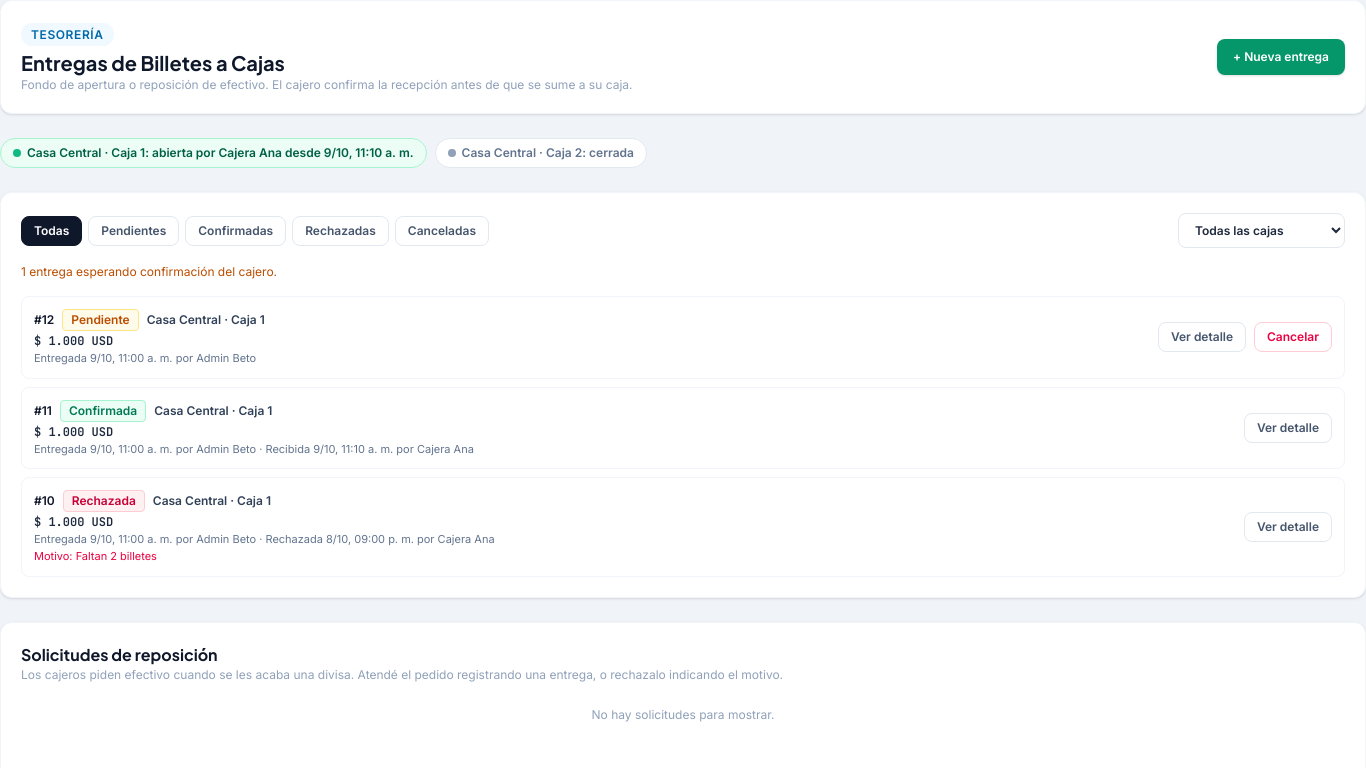
Test: CashDeliveries (PI-43) › cancela una pendiente indicando el motivo
This screenshot has width=1366, height=768.
Check: the text "#12" is shown, box [34,312,54,328]
Click the button "Cancelar": (1293, 337) [1254,322,1332,352]
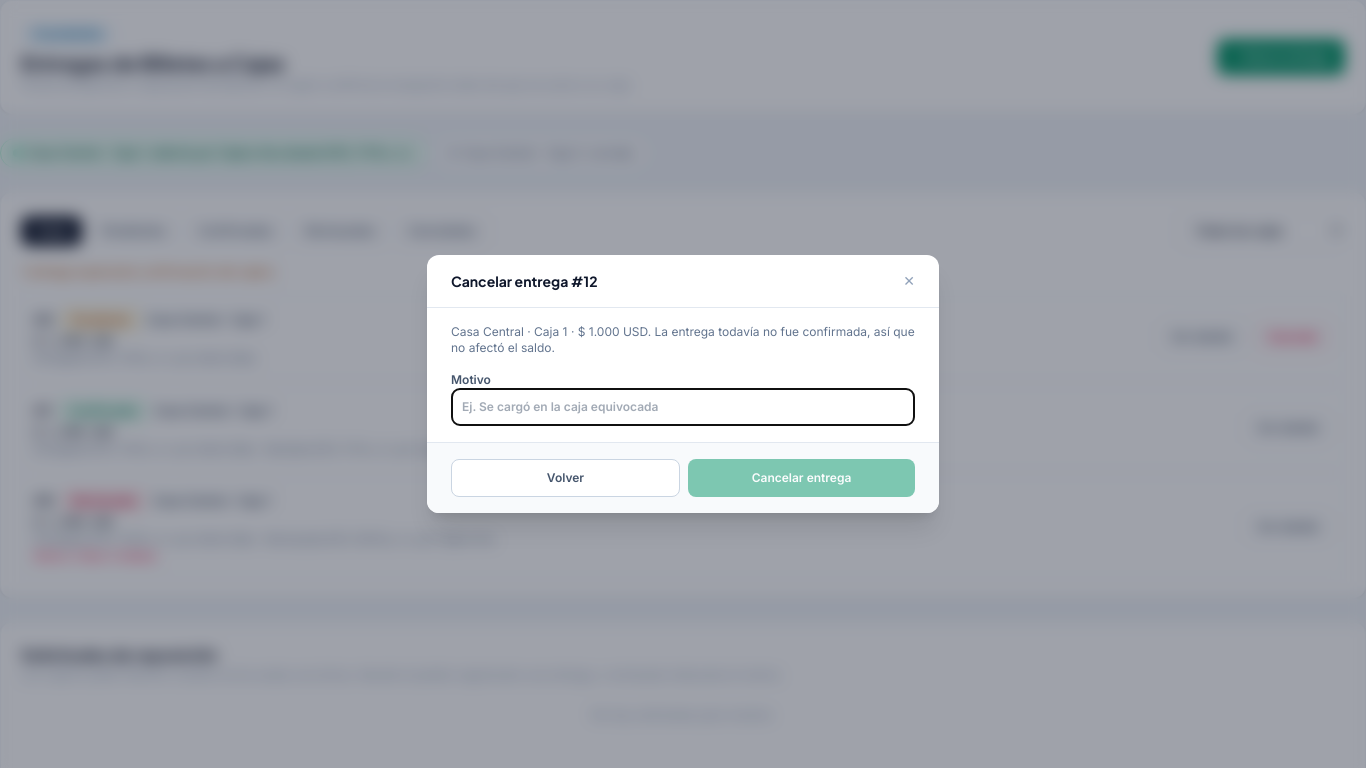
Check: the button "Cancelar entrega" is disabled, box [688,459,915,497]
In the field labelled "Motivo": (683, 407) [451,388,915,426], type "Caja equivocada"
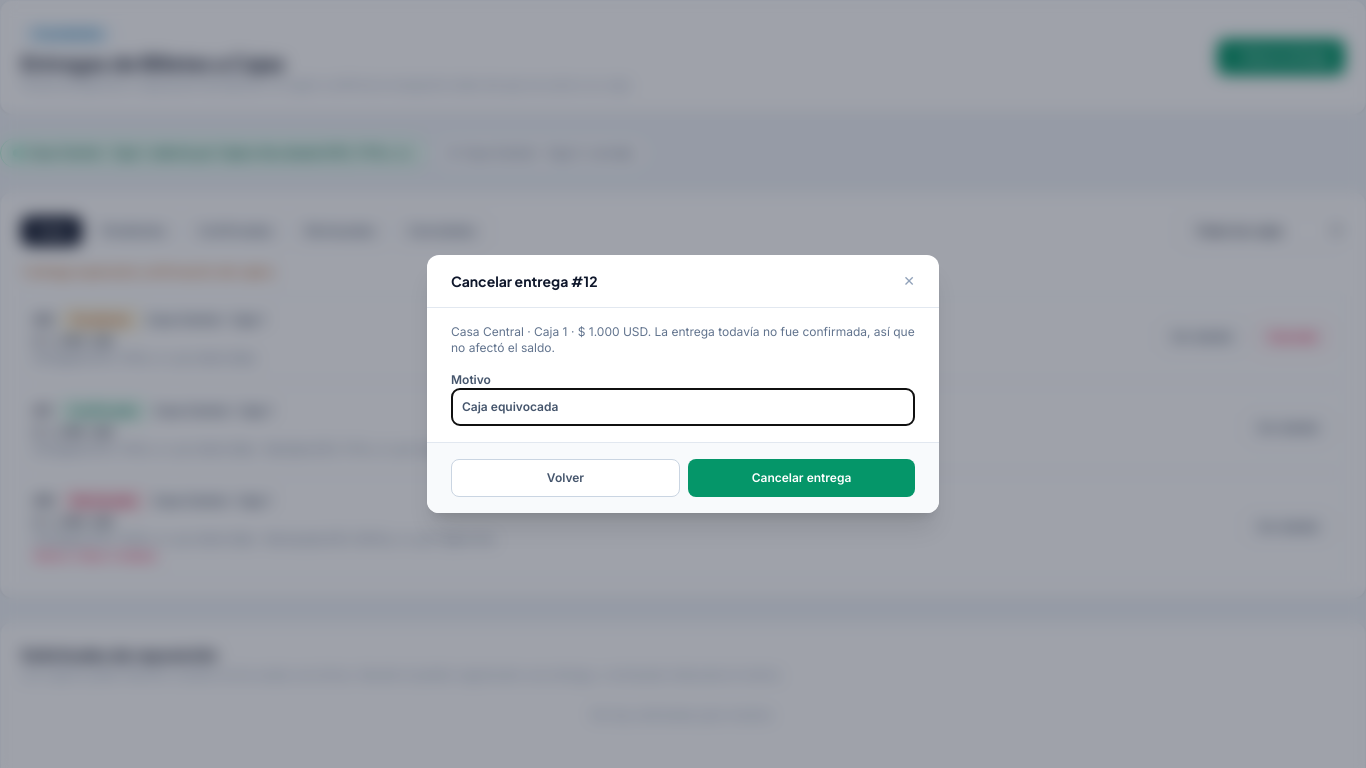
Click the button "Cancelar entrega": (802, 478) [688,459,915,497]
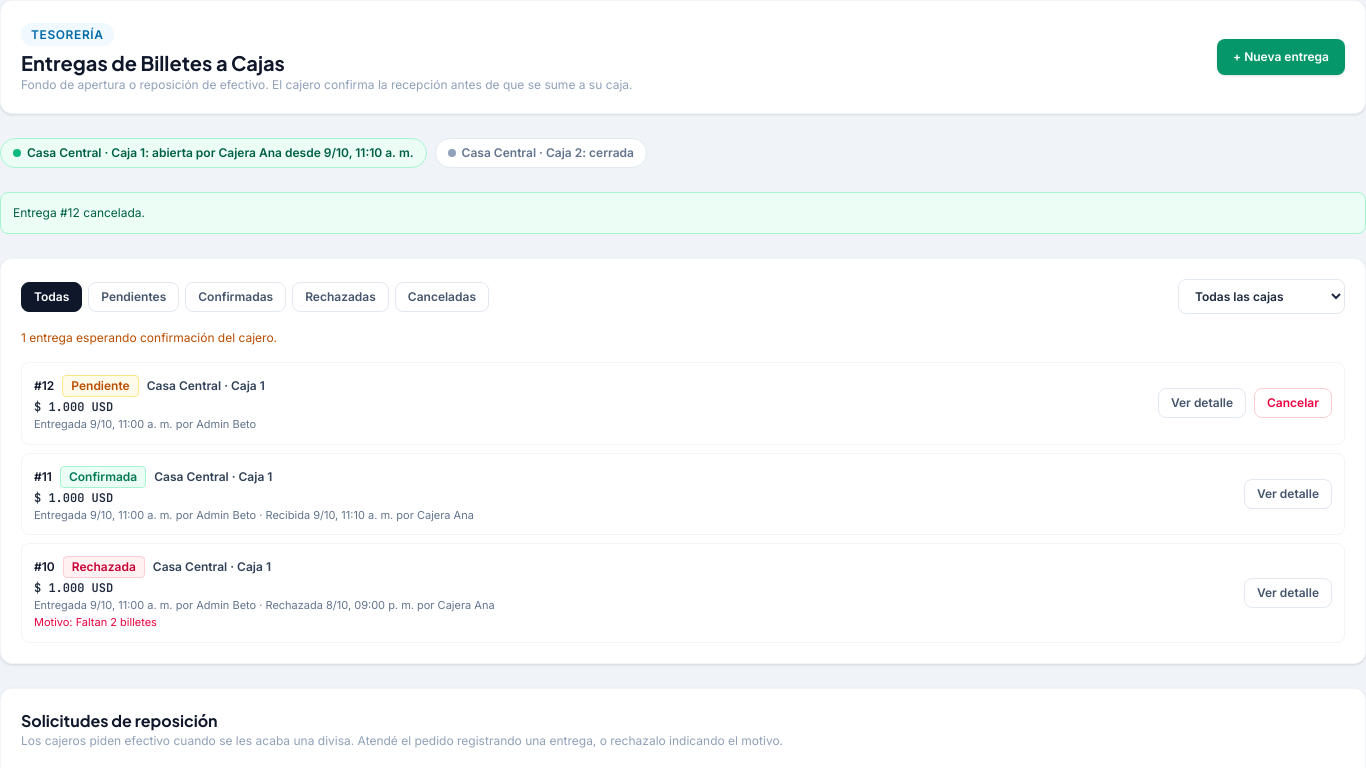
Check: the message shows "Entrega #12 cancelada", box [13,205,145,220]
